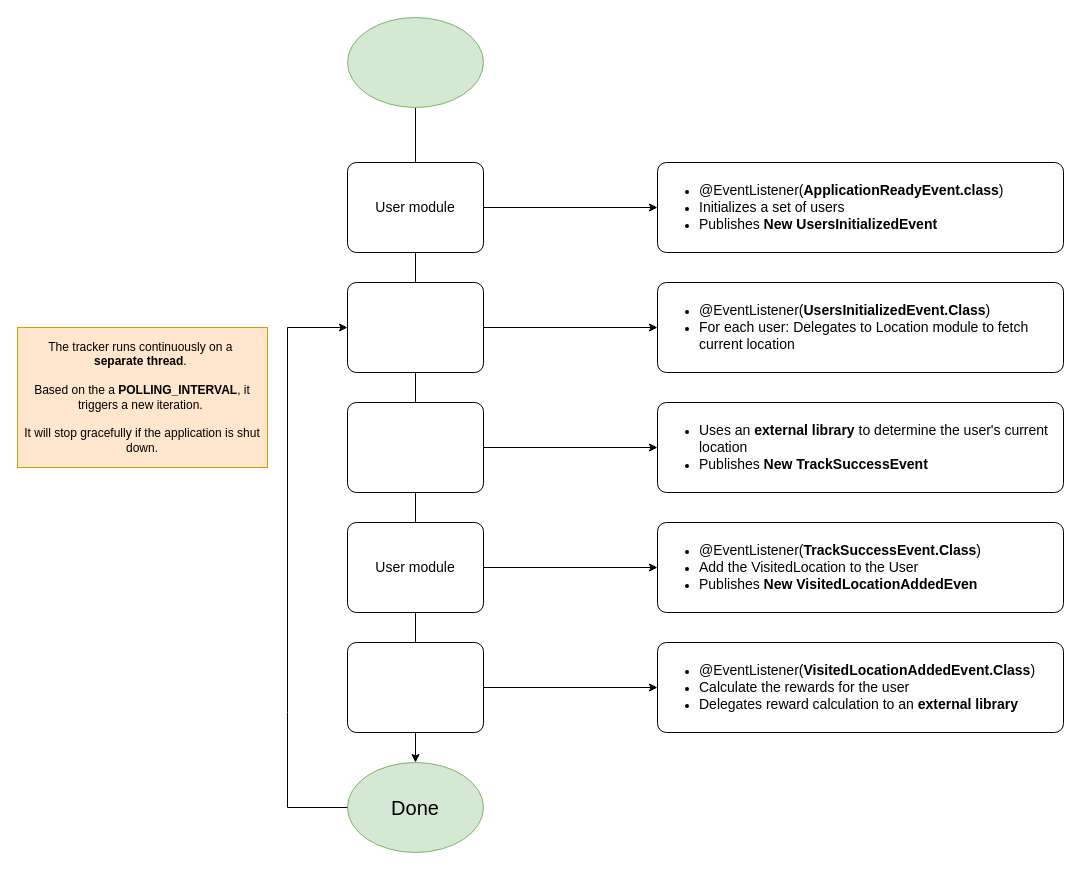
The diagram is 1081 pixels wide and 870 high, and some of its shapes have lost their labels. The shapes that lost their labels are listed below. From the top down, each one's centre as x and y in pixels, then its label:
At (x=415, y=62): "Start".
At (x=415, y=327): "Tracker module".
At (x=415, y=447): "Location module".
At (x=415, y=687): "Reward module".
